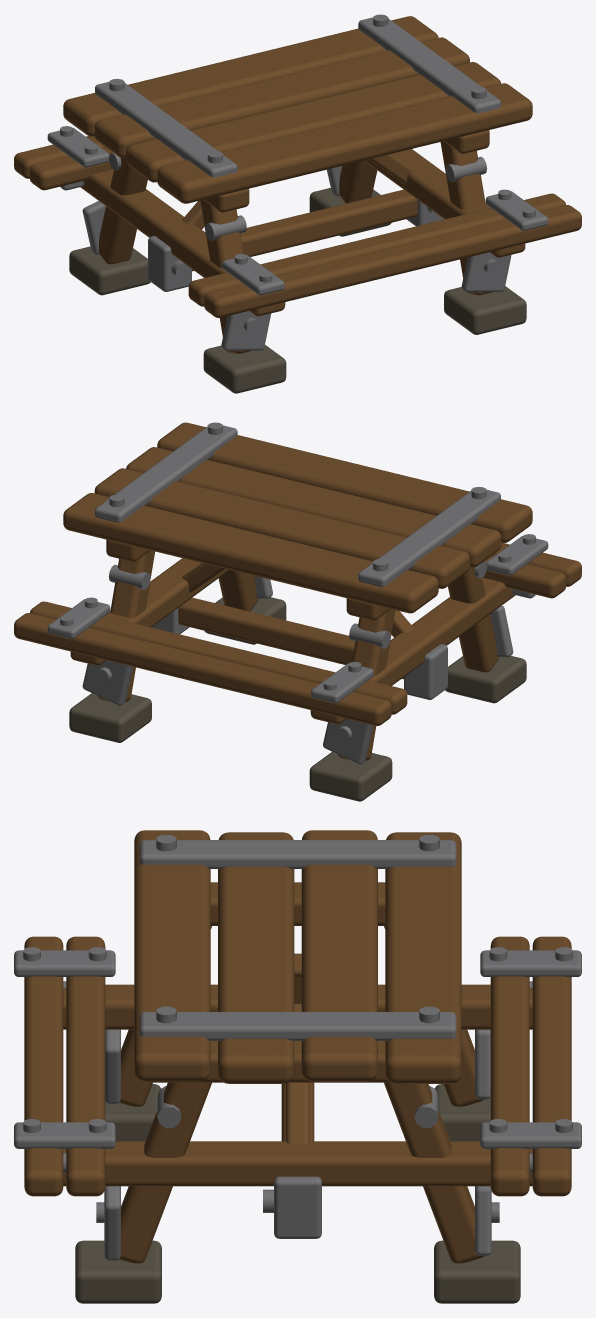
Rendered from picnic-table.glb.
3 renders of one model, top to bottom at view 1: azimuth 30°, elevation 25°; view 2: azimuth 150°, elevation 25°; view 3: azimuth 270°, elevation 25°, orthographic. The views are drawn at different scales.
Parts seen in each view (by area): view 1: picnic-table-farm-wood-shadow, picnic-table-farm-metal, picnic-table-farm-stone-dark; view 2: picnic-table-farm-wood-shadow, picnic-table-farm-metal, picnic-table-farm-stone-dark; view 3: picnic-table-farm-wood-shadow, picnic-table-farm-metal, picnic-table-farm-stone-dark.
Part boxes in pixels (x1,y1,x2,y2): picnic-table-farm-wood-shadow: (14, 16, 581, 353); picnic-table-farm-metal: (47, 14, 548, 350); picnic-table-farm-stone-dark: (69, 188, 526, 393); picnic-table-farm-wood-shadow: (14, 422, 581, 760); picnic-table-farm-metal: (47, 422, 548, 764); picnic-table-farm-stone-dark: (69, 597, 526, 801); picnic-table-farm-wood-shadow: (24, 830, 571, 1263); picnic-table-farm-metal: (14, 835, 581, 1260); picnic-table-farm-stone-dark: (75, 1084, 520, 1303).
Bounding box in the file's own units: 1.9 × 1.05 × 1.9.
